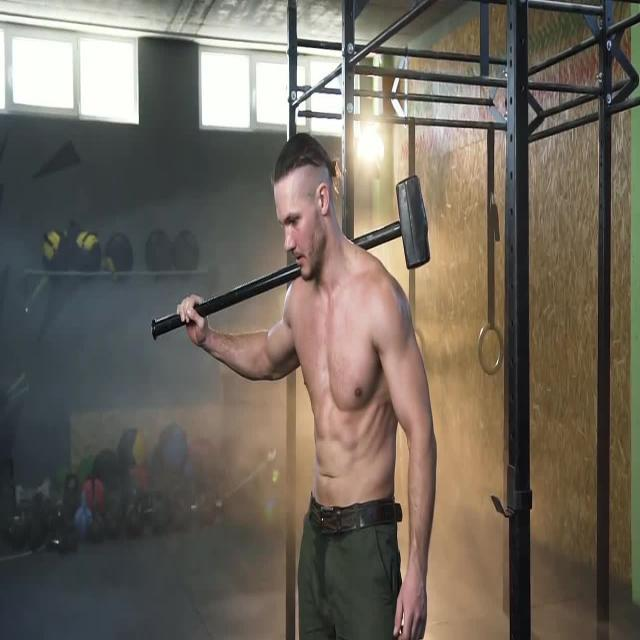hammer: (144, 171, 440, 365)
